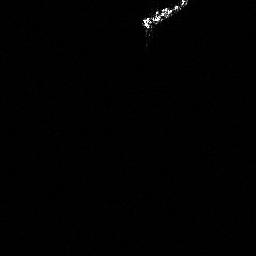ship: (140, 1, 190, 45)
